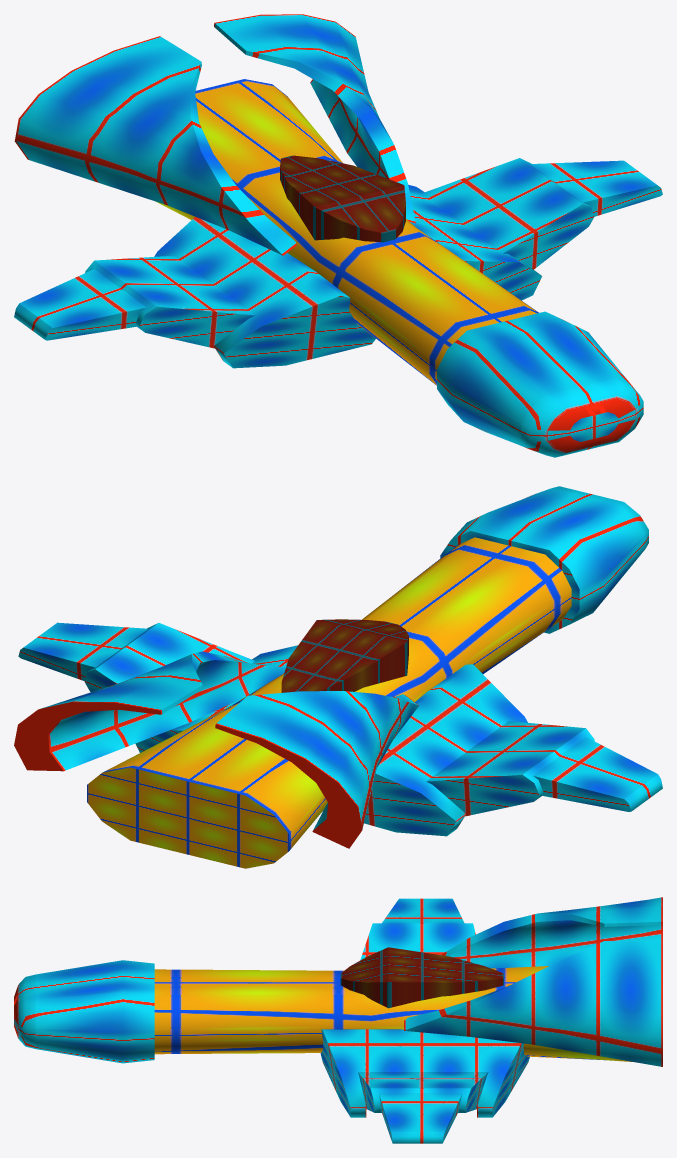
Rendered from starship01_nowing.DAE.
3 renders of one model, top to bottom at view 1: azimuth 30°, elevation 25°; view 2: azimuth 150°, elevation 25°; view 3: azimuth 270°, elevation 25°, orthographic. The views are drawn at different scales.
Visible parts, largest first — view 1: Sphere01, Box01, Cylinder05, Object02_PIVOT, Object03_PIVOT, Cylinder02, Cylinder04; view 2: Sphere01, Box01, Object03_PIVOT, Cylinder05, Object02_PIVOT, Cylinder02, Cylinder04; view 3: Sphere01, Box01, Cylinder04, Object02_PIVOT, Cylinder02, Object03_PIVOT.
Part boxes in pixels (bbox=[...]): Sphere01: bbox=[156, 79, 643, 457]; Box01: bbox=[14, 14, 415, 255]; Cylinder05: bbox=[154, 217, 375, 368]; Object02_PIVOT: bbox=[421, 158, 662, 269]; Object03_PIVOT: bbox=[14, 255, 255, 348]; Cylinder02: bbox=[280, 155, 405, 242]; Cylinder04: bbox=[408, 185, 542, 300]; Sphere01: bbox=[87, 486, 648, 868]; Box01: bbox=[14, 651, 418, 848]; Object03_PIVOT: bbox=[426, 721, 662, 816]; Cylinder05: bbox=[322, 664, 527, 836]; Object02_PIVOT: bbox=[18, 622, 254, 691]; Cylinder02: bbox=[281, 619, 408, 692]; Cylinder04: bbox=[135, 645, 297, 752]; Sphere01: bbox=[14, 960, 634, 1063]; Box01: bbox=[404, 897, 662, 1066]; Cylinder04: bbox=[320, 1029, 529, 1117]; Object02_PIVOT: bbox=[358, 1072, 488, 1143]; Cylinder02: bbox=[340, 947, 503, 1008]; Object03_PIVOT: bbox=[360, 898, 475, 960].
Bounding box in the file's own units: 699 × 804 × 177.
Materials: 3 (3 with a texture image).
